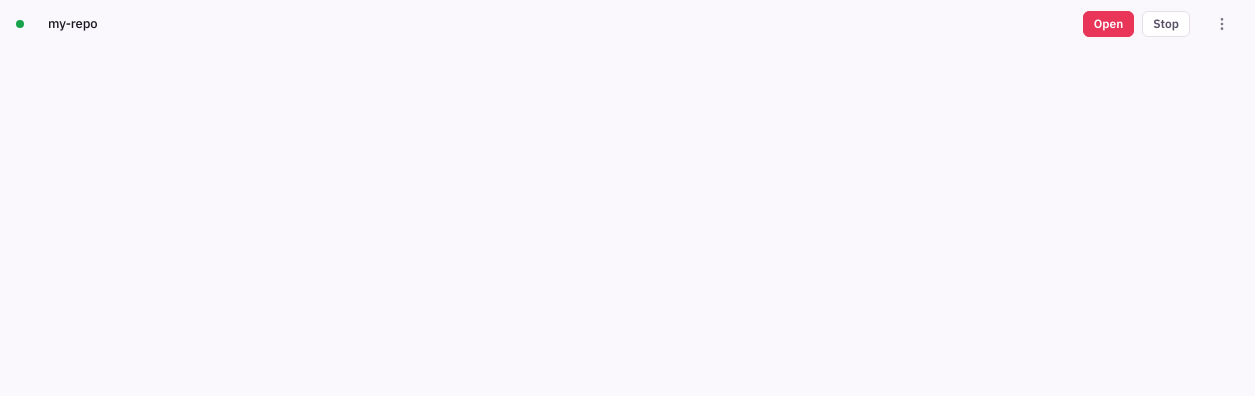
Scenario: ProjectRow › shows Rebuild, View Logs, Remove in overflow menu
This screenshot has width=1255, height=396.
What coordinates should you click on to do the following:
click the button named "Project actions"
I would click on:
 (1222, 24)
Its box is [1206,8,1238,40].
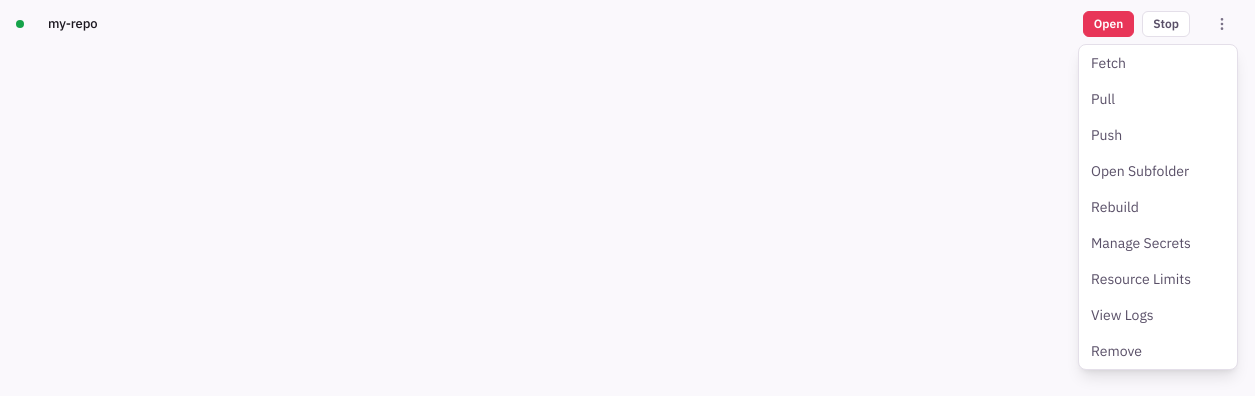
expect the button "Rebuild" is shown: met, box [1079,189,1237,225]
expect the button "View Logs" is shown: met, box [1079,297,1237,333]
expect the button "Remove" is shown: met, box [1079,333,1237,369]
